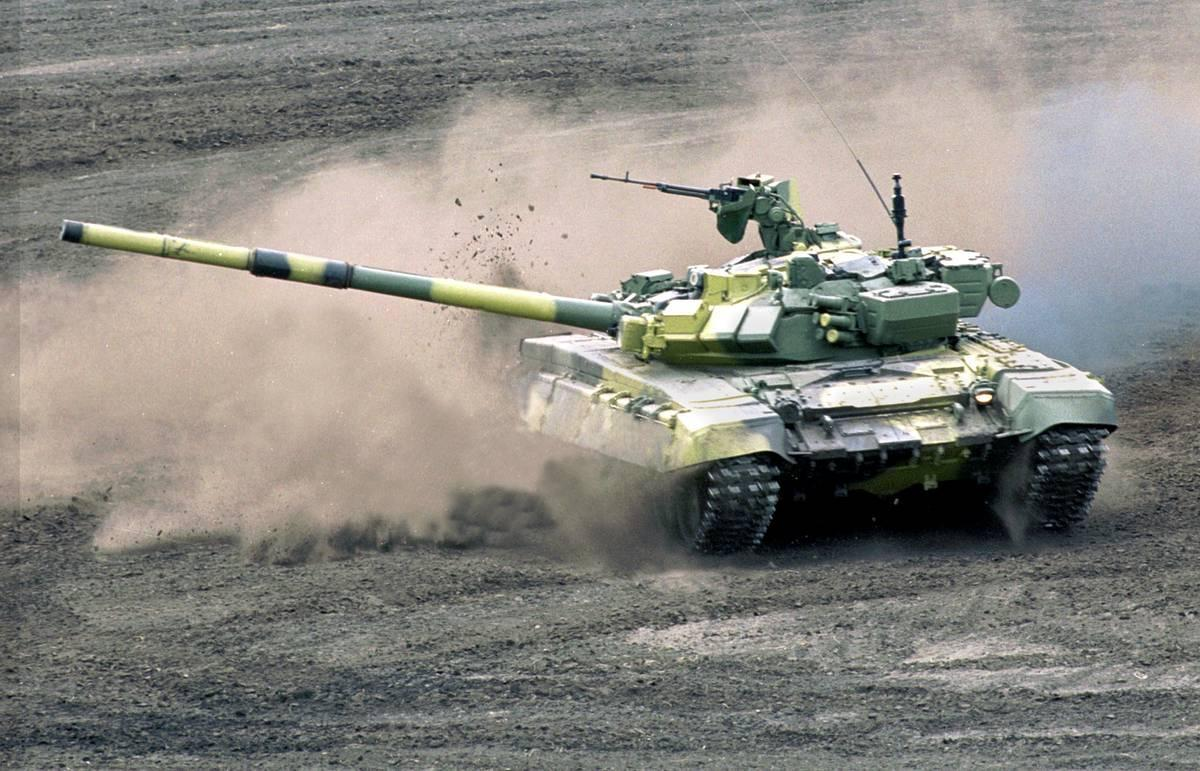tank: (57, 171, 1120, 560)
